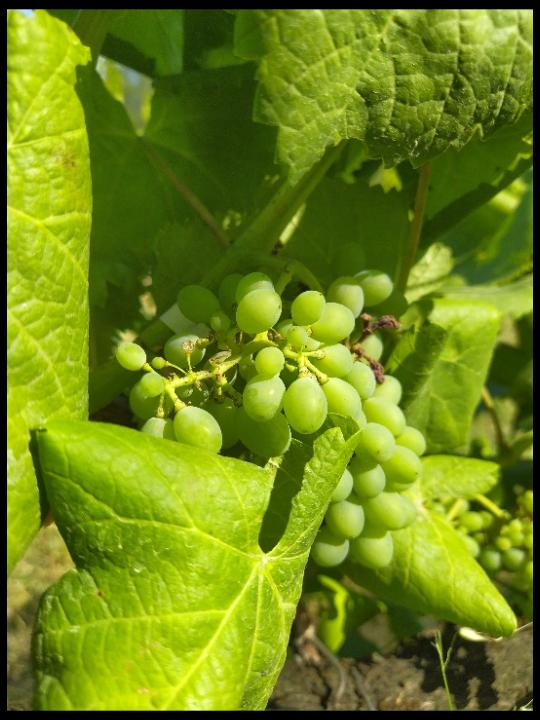grape: (110, 239, 428, 574)
